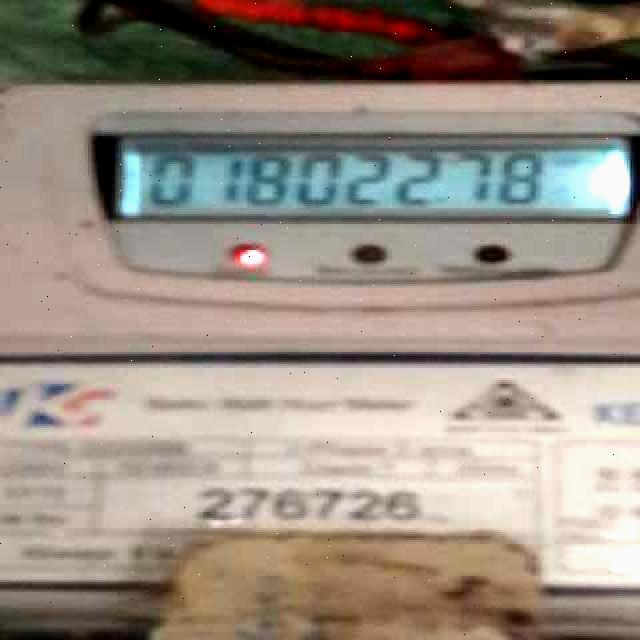LCD: (110, 128, 637, 234)
